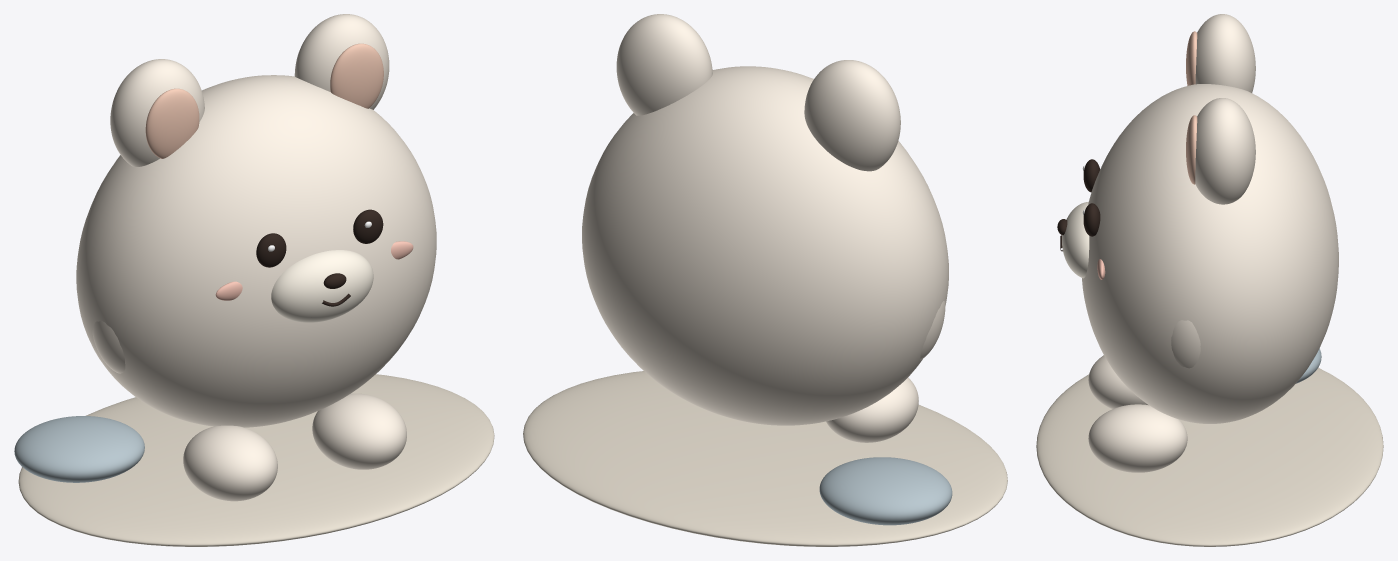
The model's file is companion-study.glb.
The picture shows the model from 3 angles, left to right: view 1: azimuth 30°, elevation 25°; view 2: azimuth 150°, elevation 25°; view 3: azimuth 270°, elevation 25°; orthographic projection. The views are drawn at different scales.
Parts seen in each view (by area): view 1: body, platform, foot (×2), ear (×2), cushion, ear_inner (×2), muzzle, eye (×2), resting_paw; view 2: body, platform, ear (×2), cushion, foot; view 3: body, platform, ear (×2), foot (×2), muzzle, ear_inner (×2), paw, eye.
Part boxes in pixels (bbox=[...]): body: bbox=[76, 75, 436, 427]; platform: bbox=[18, 374, 494, 546]; foot (×2): bbox=[183, 393, 406, 501]; ear (×2): bbox=[110, 14, 389, 166]; cushion: bbox=[14, 416, 144, 482]; ear_inner (×2): bbox=[145, 43, 383, 158]; muzzle: bbox=[271, 250, 373, 322]; eye (×2): bbox=[256, 209, 383, 267]; resting_paw: bbox=[92, 321, 125, 373]; body: bbox=[582, 66, 948, 425]; platform: bbox=[523, 371, 1007, 546]; ear (×2): bbox=[616, 14, 900, 171]; cushion: bbox=[819, 457, 952, 525]; foot: bbox=[826, 377, 918, 442]; body: bbox=[1082, 84, 1338, 423]; platform: bbox=[1036, 368, 1383, 546]; ear (×2): bbox=[1195, 14, 1255, 204]; foot (×2): bbox=[1088, 355, 1187, 472]; muzzle: bbox=[1062, 201, 1089, 278]; ear_inner (×2): bbox=[1186, 31, 1197, 184]; paw: bbox=[1171, 320, 1200, 368]; eye: bbox=[1083, 203, 1100, 236].
Bounding box in the file's own units: 1.9 × 1.79 × 1.4.
